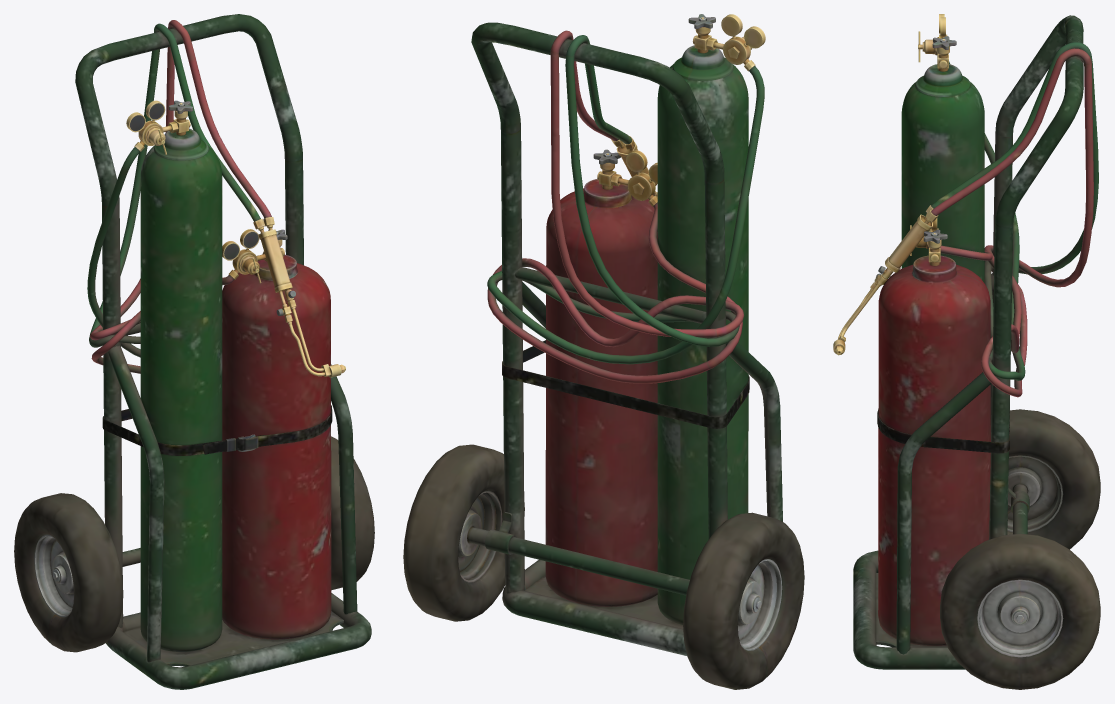
File: welding-cart.glb
3 views of the same model, side by side, from view 1: azimuth 30°, elevation 25°; view 2: azimuth 150°, elevation 25°; view 3: azimuth 270°, elevation 25° (orthographic). The views are drawn at different scales.
Parts seen in each view (by area): view 1: portable_welding_cart; view 2: portable_welding_cart; view 3: portable_welding_cart.
Part boxes in pixels (bbox=[...]): portable_welding_cart: bbox=[14, 14, 374, 689]; portable_welding_cart: bbox=[403, 14, 804, 689]; portable_welding_cart: bbox=[833, 14, 1100, 689].
Size of the model in its own units: 0.8383 by 1.56 by 0.6549.
2 materials, 2 textured.
